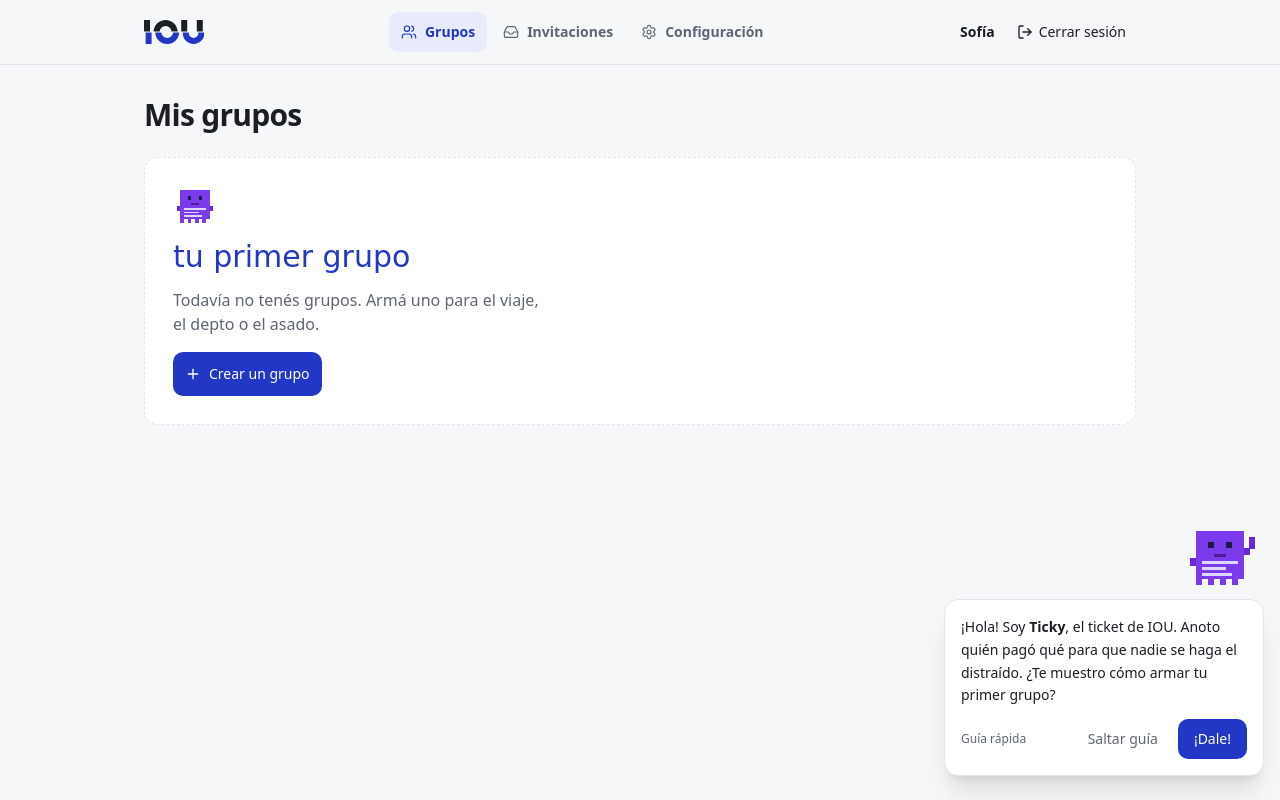
Test case: Guía de primer uso (HU-38) › arranca en "Crear grupo" y avanza cuando el usuario lo toca
This screenshot has width=1280, height=800.
expect the text "Ticky" is shown: met, box x1=1029 y1=617 x2=1065 y2=636
Click the button "¡Dale!": [1212, 739] box x1=1178 y1=719 x2=1247 y2=759
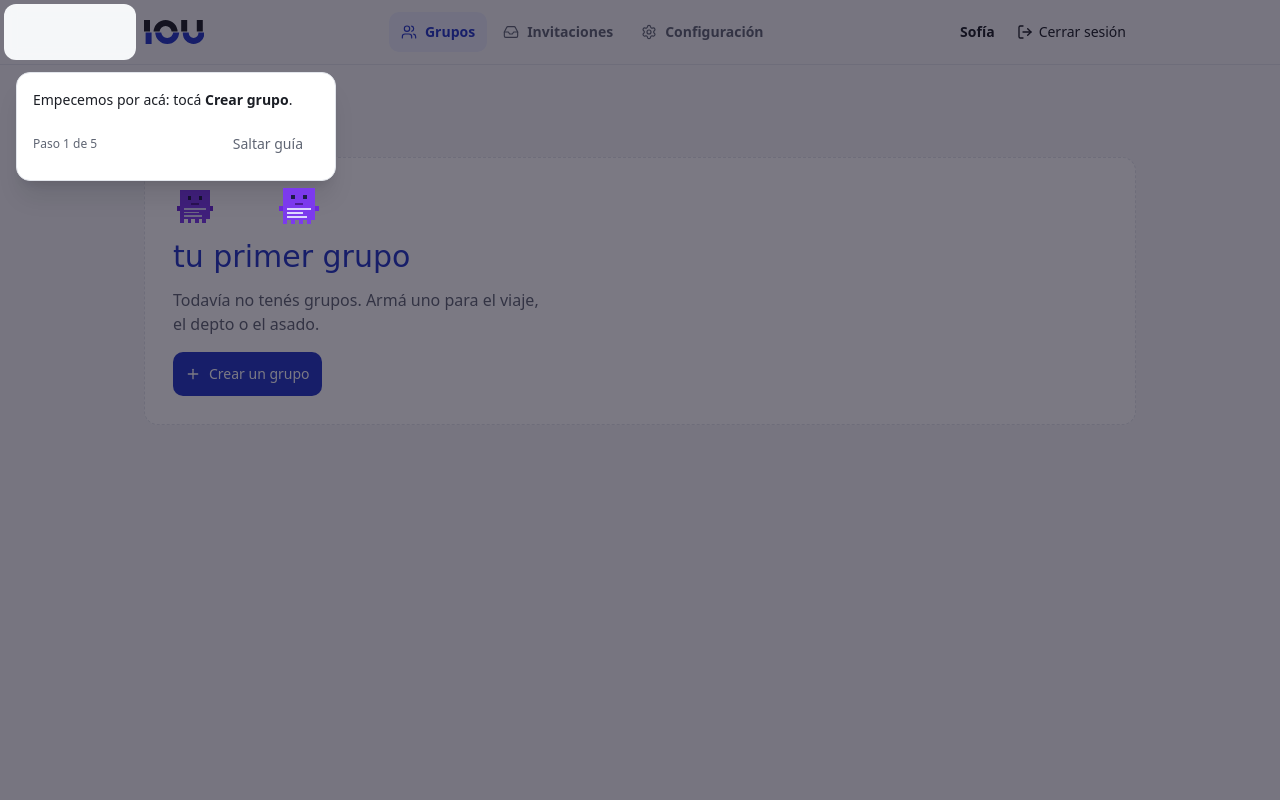
Click the button "Crear un grupo": [247, 374] box x1=173 y1=352 x2=322 y2=396
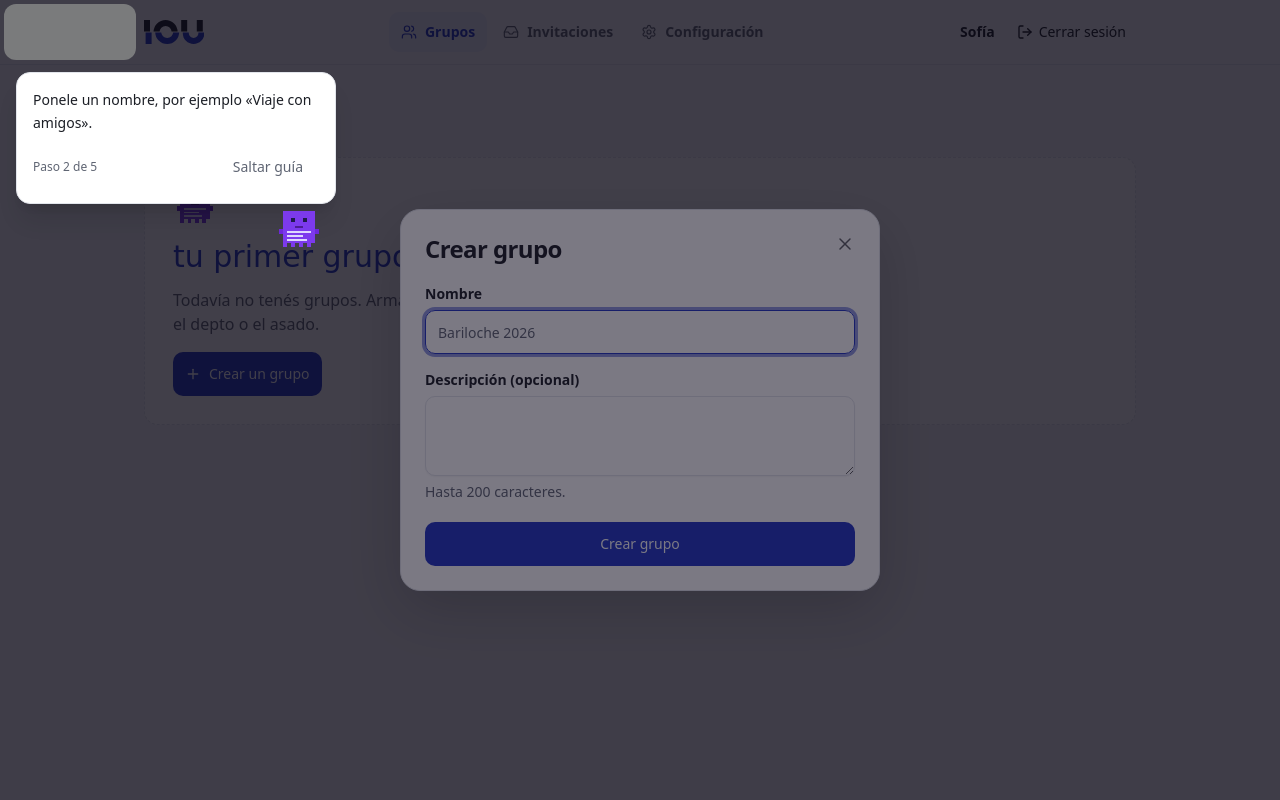
expect the text "Ponele un nombre, por ejemplo «Viaje con amigos»." is shown: met, box x1=33 y1=89 x2=319 y2=134
